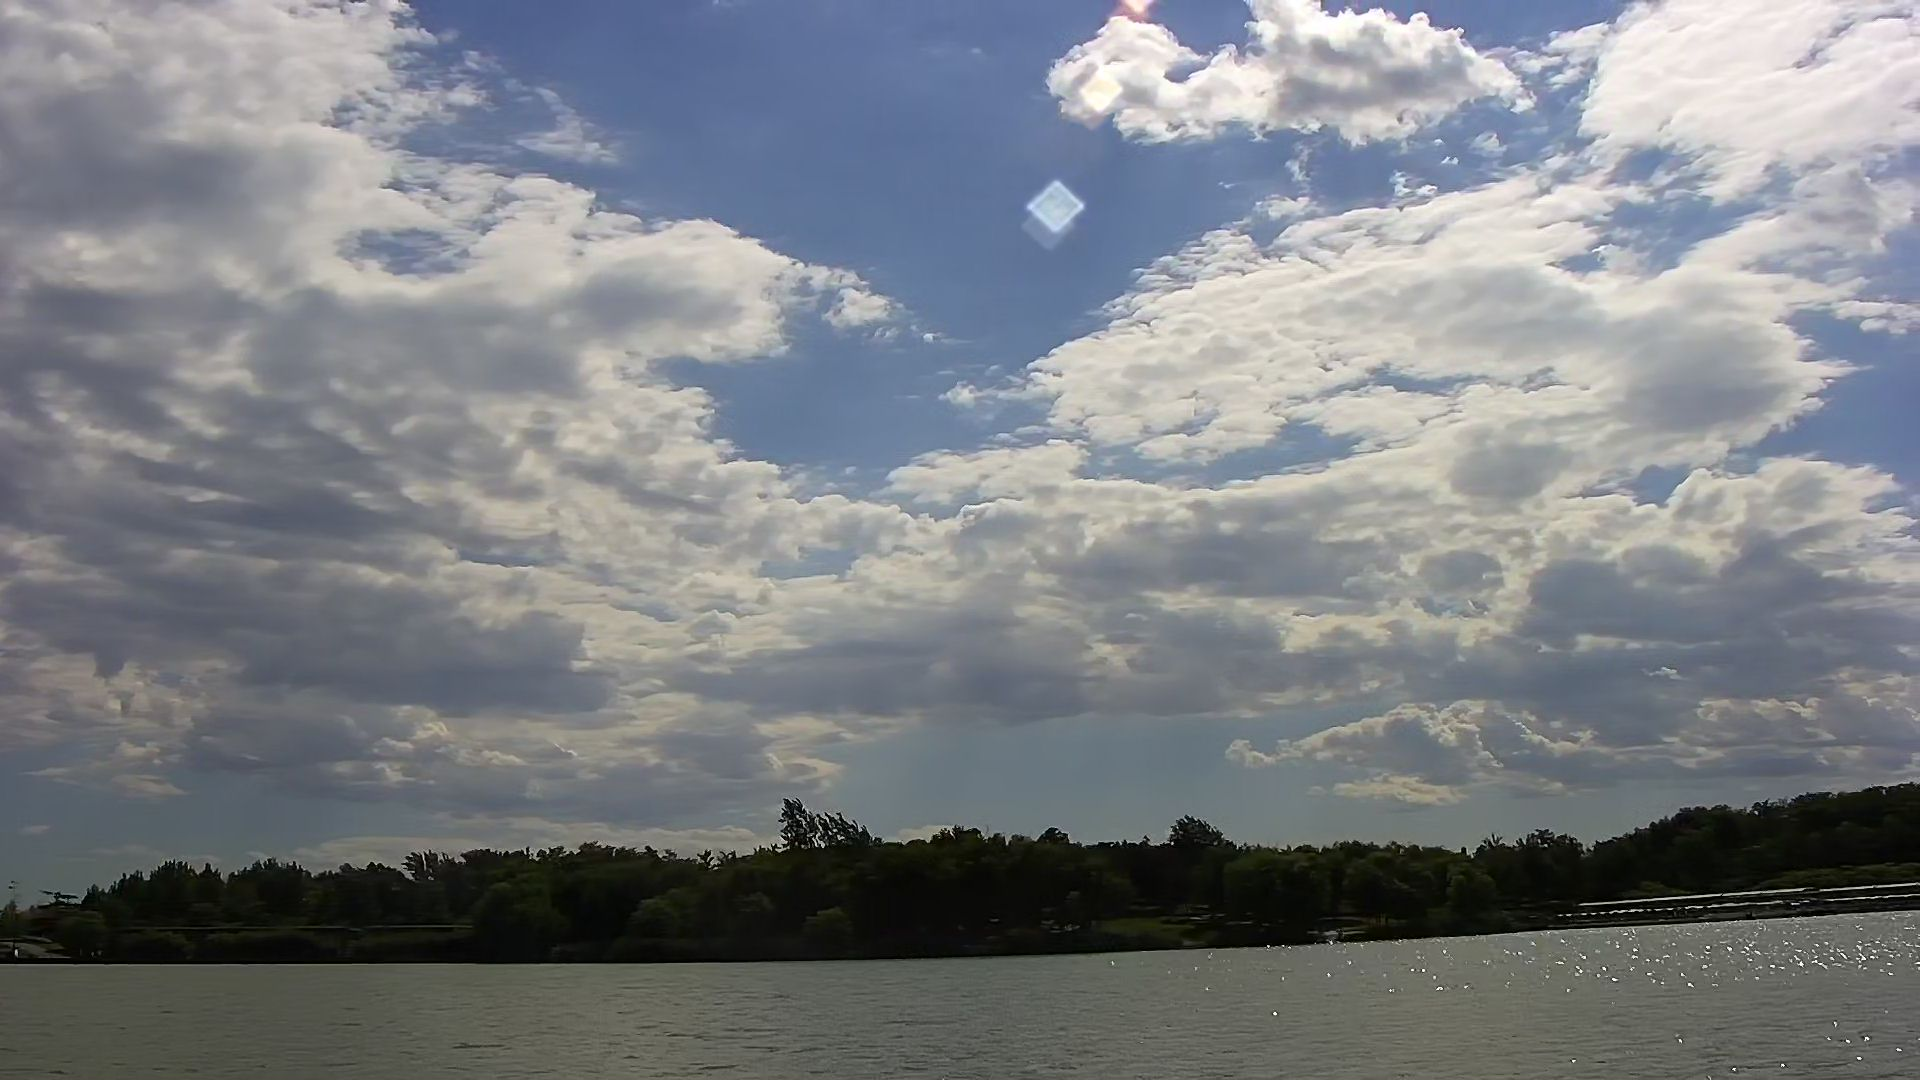harbor: (1592, 884, 1917, 924)
